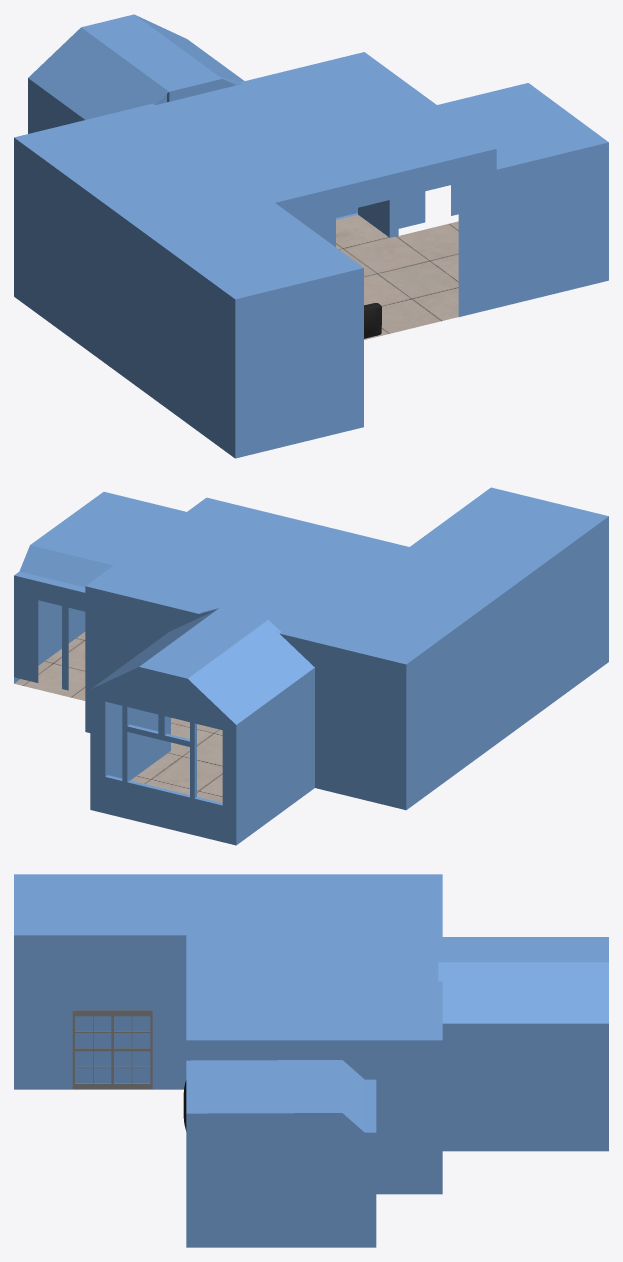
The model's file is _46BurlingtonWay01.fbx.
3 renders of one model, top to bottom at view 1: azimuth 30°, elevation 25°; view 2: azimuth 150°, elevation 25°; view 3: azimuth 270°, elevation 25°, orthographic. The views are drawn at different scales.
Parts seen in each view (by area): view 1: walls, floor.002, Cube.009; view 2: walls, floor.002; view 3: walls, bookcase.
Boxes of the visible parts, left/top/right/bottom form: walls: left=14, top=14, right=608, bottom=458; floor.002: left=336, top=215, right=458, bottom=339; Cube.009: left=364, top=303, right=381, bottom=338; walls: left=14, top=487, right=608, bottom=845; floor.002: left=14, top=632, right=222, bottom=802; walls: left=14, top=874, right=608, bottom=1247; bookcase: left=72, top=1010, right=152, bottom=1089.
Size of the model in its own units: 798 by 279 by 917.
